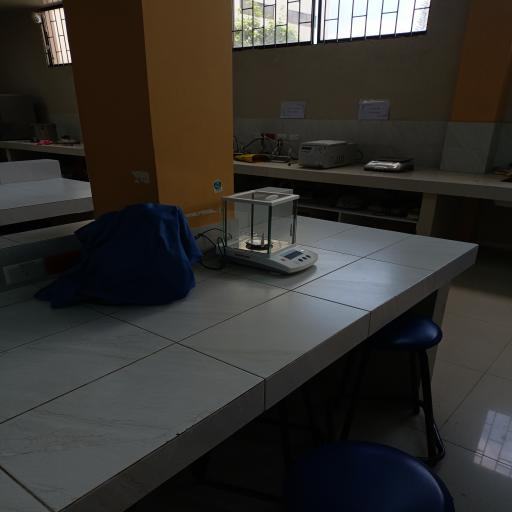Balanza_Analitica_Ohaus: (214, 182, 324, 280)
